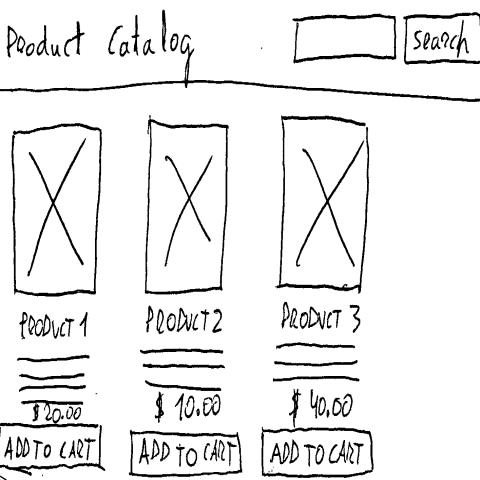Button: (259, 425, 376, 479), (129, 429, 247, 478), (1, 421, 105, 476), (403, 11, 480, 69)
Image: (9, 121, 105, 301), (278, 114, 371, 296), (145, 114, 231, 298)
Paragraph: (141, 342, 225, 396), (272, 340, 363, 387), (16, 350, 92, 405)
Textbox: (293, 12, 400, 65)
